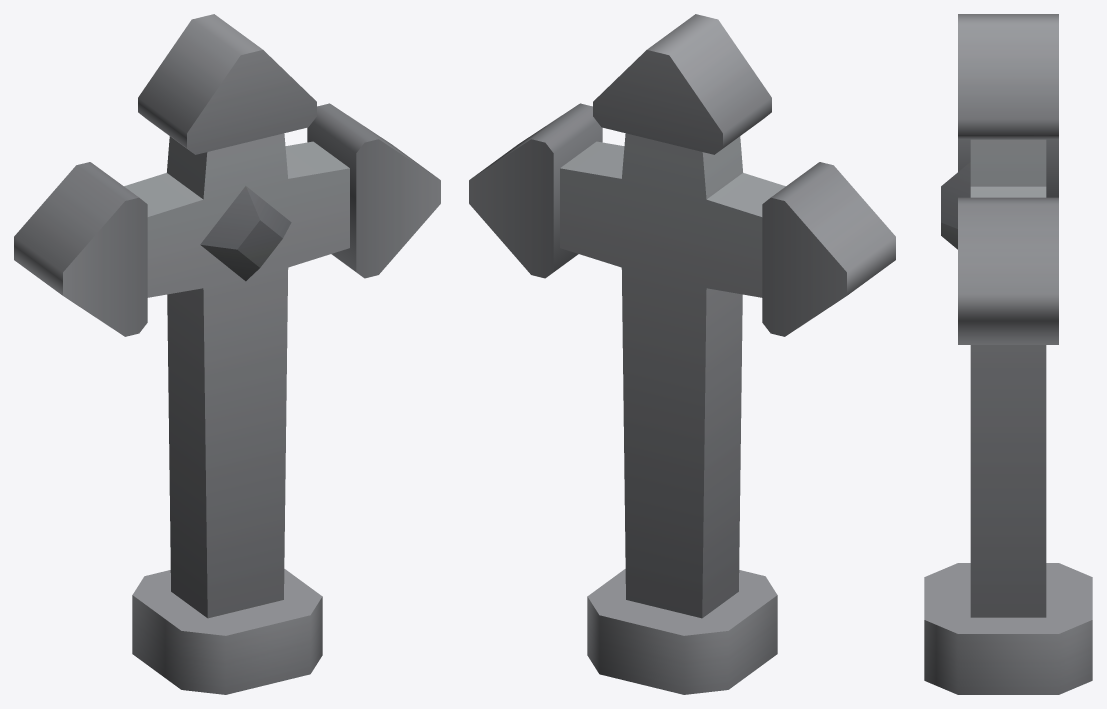
The model's file is cross.glb.
3 renders of one model, left to right at view 1: azimuth 30°, elevation 25°; view 2: azimuth 150°, elevation 25°; view 3: azimuth 270°, elevation 25°, orthographic. The views are drawn at different scales.
Visible parts, largest first — view 1: cross; view 2: cross; view 3: cross.
Part boxes in pixels (left/top/right/bottom): cross: left=14, top=14, right=440, bottom=694; cross: left=469, top=14, right=895, bottom=694; cross: left=924, top=14, right=1092, bottom=694.
Size of the model in its own units: 1 by 1.57 by 0.375.
Materials: 1 (1 with a texture image).
